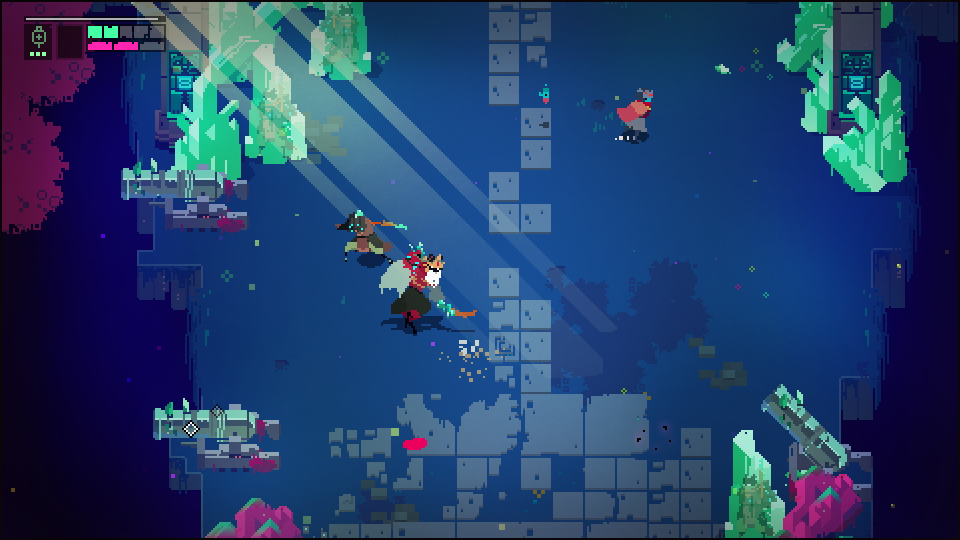hanged_man: (382, 243, 464, 324)
player: (620, 87, 660, 140)
